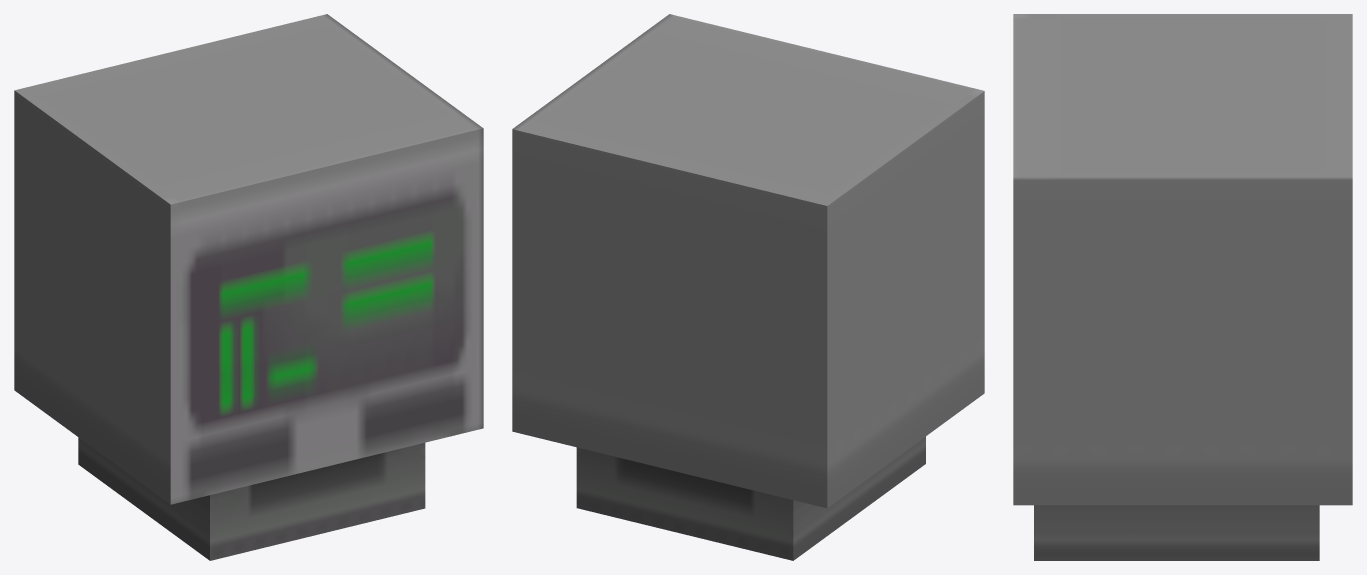
The model's file is Building_AncientSecurityTerminal.obj.
3 views of the same model, side by side, from view 1: azimuth 30°, elevation 25°; view 2: azimuth 150°, elevation 25°; view 3: azimuth 270°, elevation 25° (orthographic). The views are drawn at different scales.
Visible parts, largest first — view 1: Body; view 2: Body; view 3: Body.
Boxes of the visible parts, x1,y1,x2,y2 form: Body: (14,14,483,560); Body: (512,14,984,560); Body: (1013,14,1352,560).
Bounding box in the file's own units: 0.96 × 1.1 × 0.83.
1 material, 1 textured.
